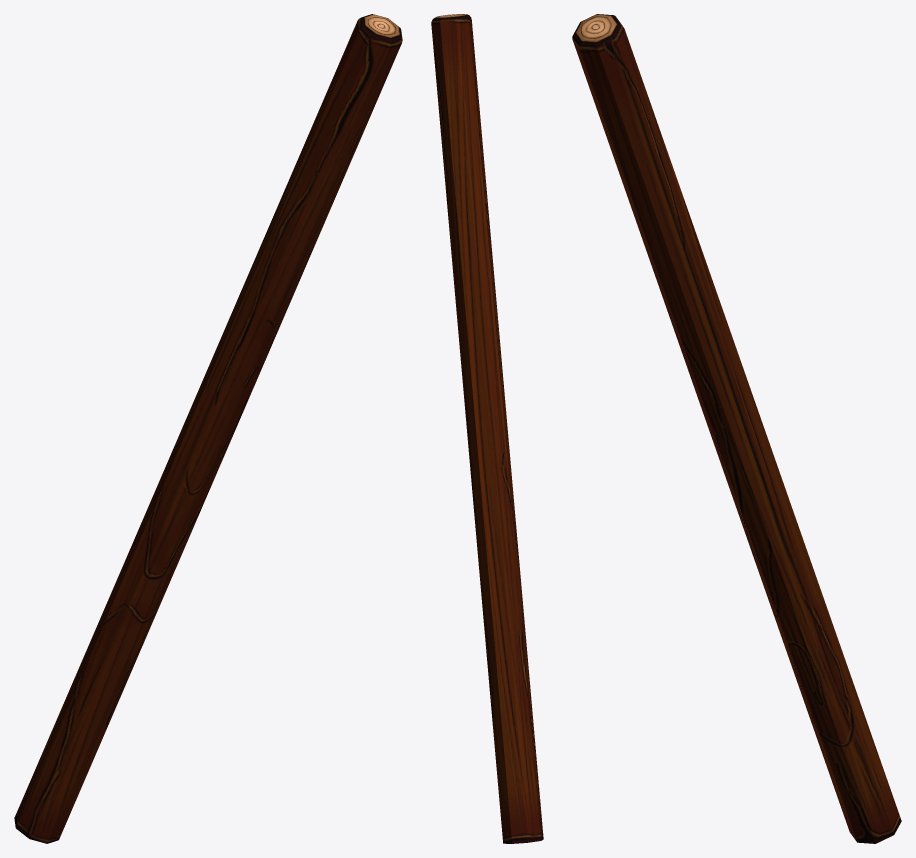
The model's file is tiang_lampionkanan.obj.
The picture shows the model from 3 angles, left to right: view 1: azimuth 30°, elevation 25°; view 2: azimuth 150°, elevation 25°; view 3: azimuth 270°, elevation 25°; orthographic projection. The views are drawn at different scales.
Parts seen in each view (by area): view 1: StallMesh; view 2: StallMesh; view 3: StallMesh.
Part boxes in pixels (box(x1,y1,x2,y2)): StallMesh: box(14, 14, 402, 843); StallMesh: box(431, 14, 543, 843); StallMesh: box(572, 14, 901, 843).
Bounding box in the file's own units: 0.0593 × 0.1897 × 0.0611.
